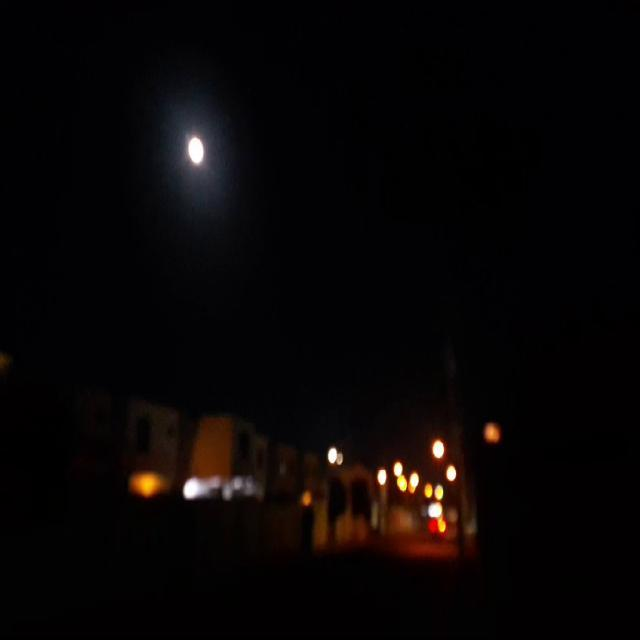moon: (189, 138, 209, 172)
